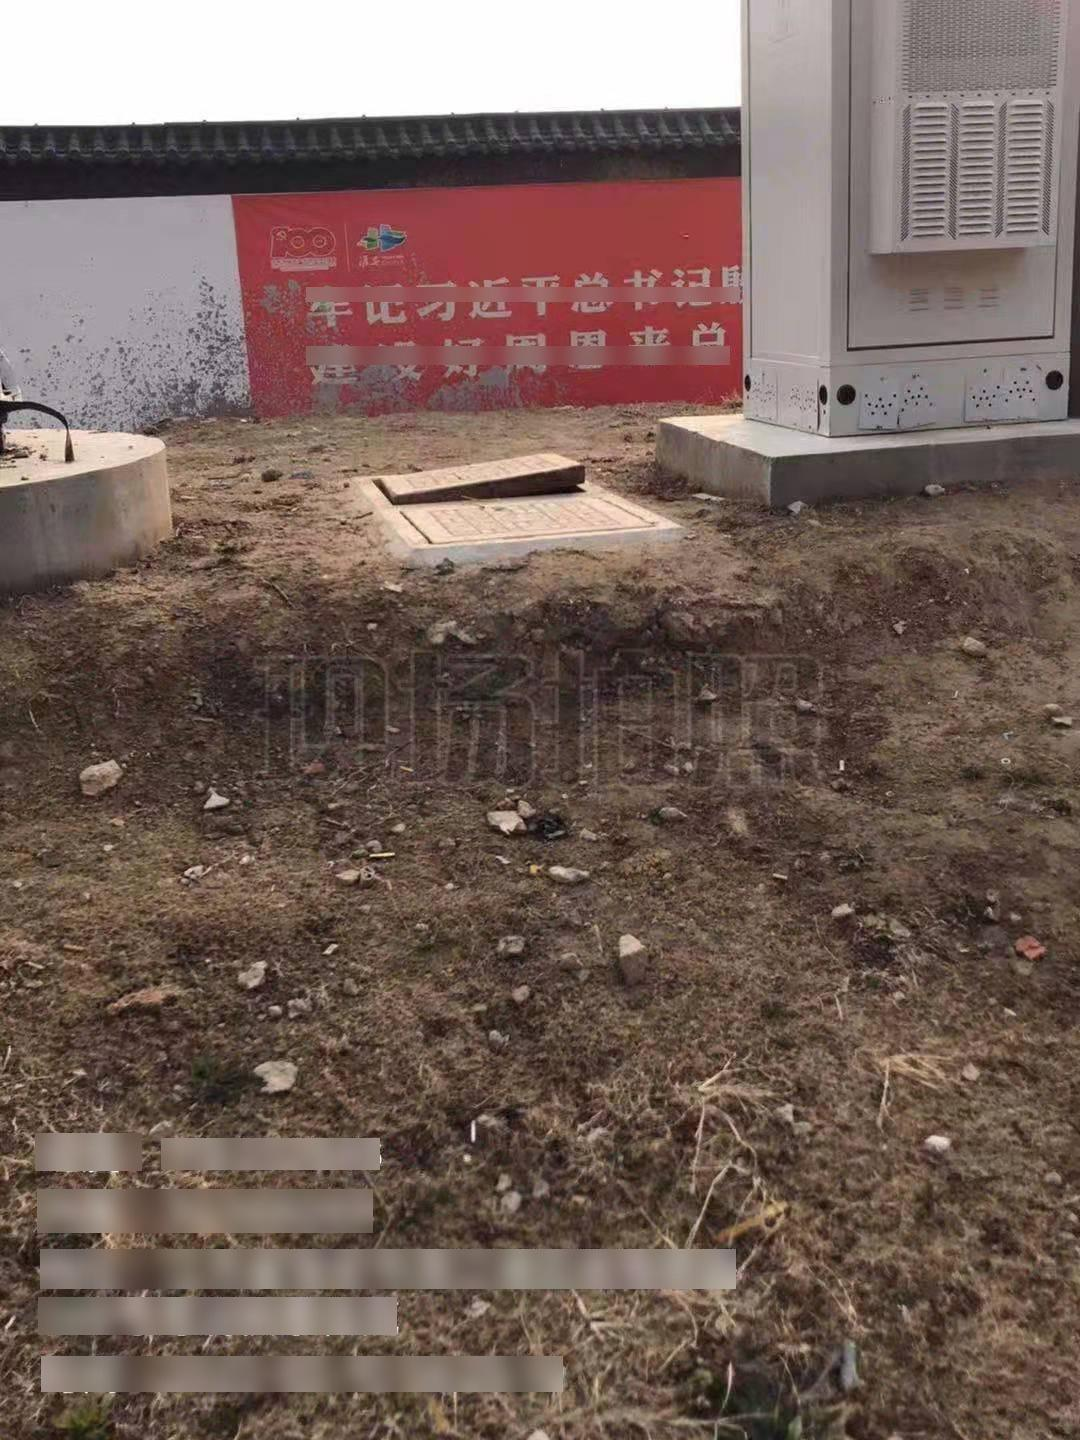wellcover: (371, 454, 675, 574)
